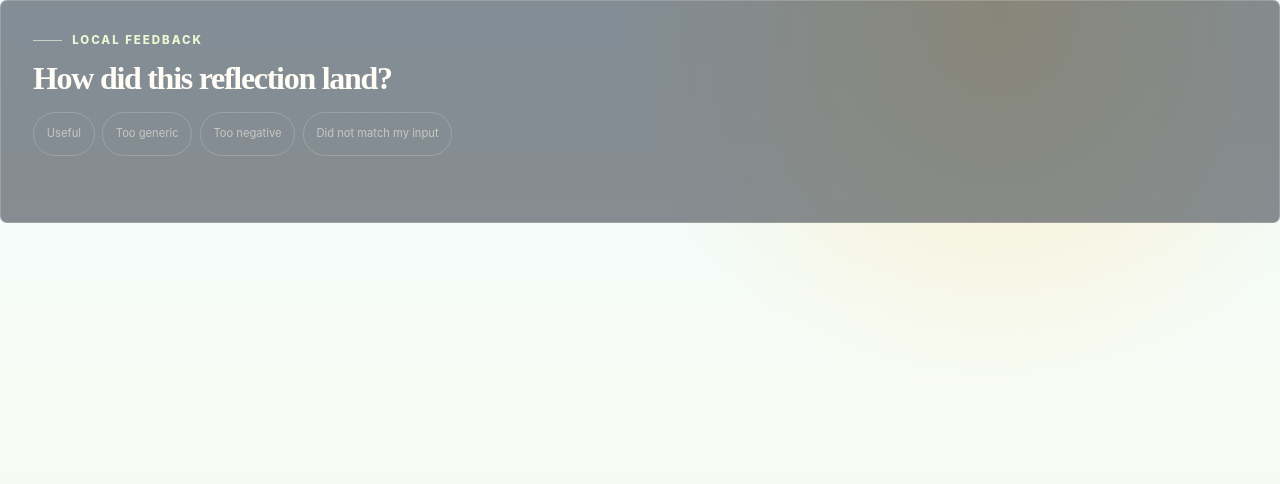
FeedbackPanel › does not claim feedback was saved when persistence fails
This screenshot has width=1280, height=484.
Click the button "Useful" at (64, 134), box [33,112,95,156]
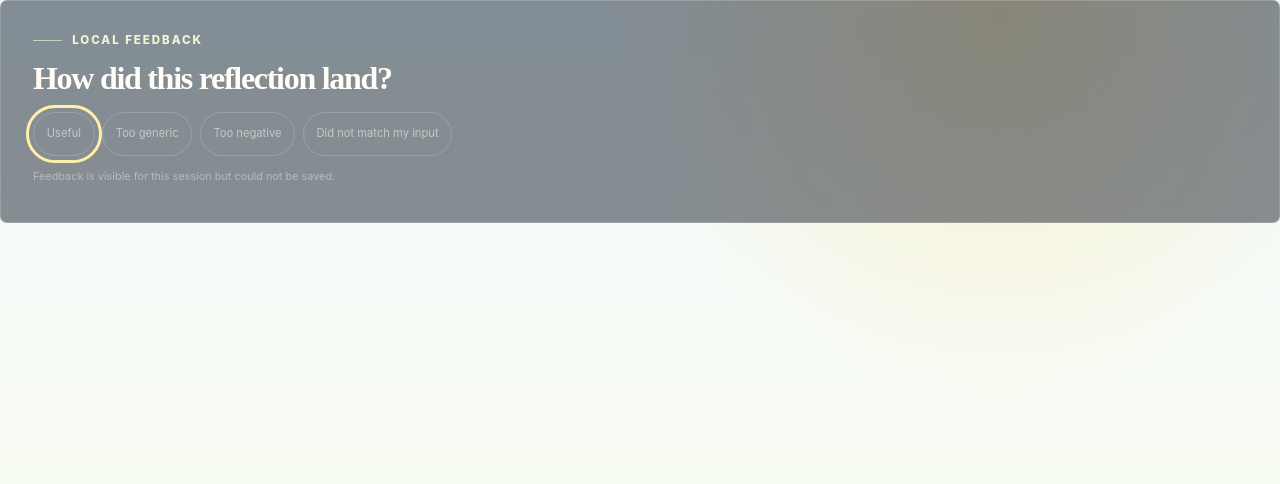
Check: the message does not show "feedback saved", box [33,169,335,183]
Check: the message shows "could not be saved", box [33,169,335,183]
